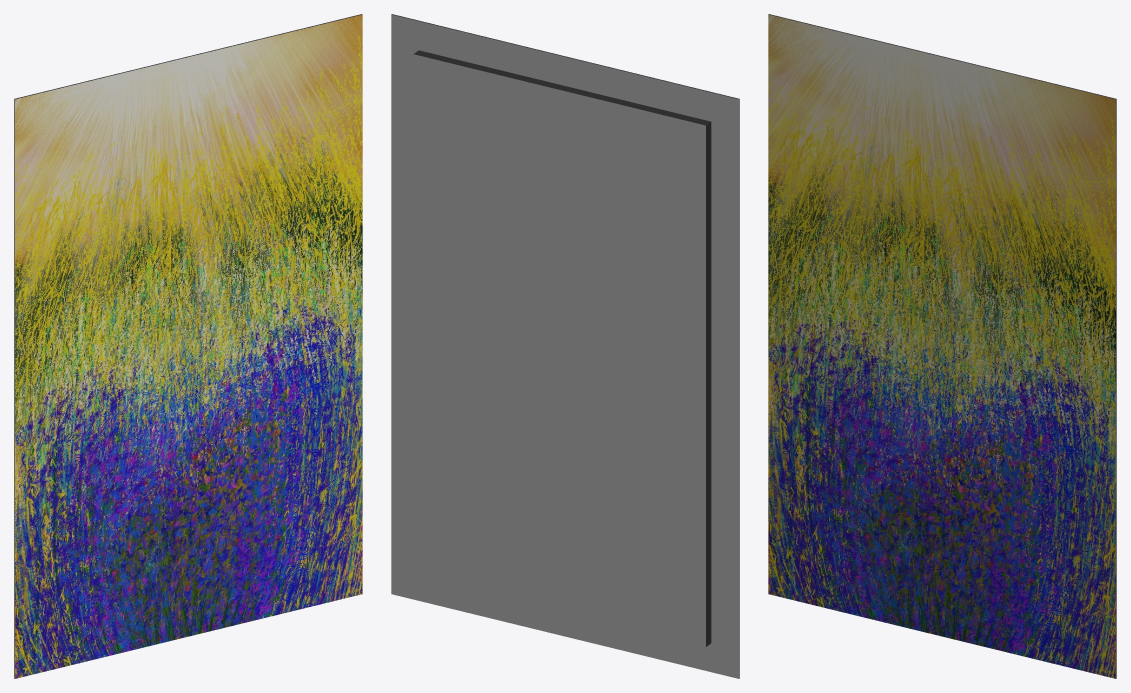
The model's file is os033_grand_dibond.glb.
3 renders of one model, left to right at view 1: azimuth 30°, elevation 25°; view 2: azimuth 150°, elevation 25°; view 3: azimuth 330°, elevation 25°, orthographic.
Parts seen in each view (by area): view 1: os033_grand_dibond; view 2: os033_grand_dibond; view 3: os033_grand_dibond.
Boxes of the visible parts, x1,y1,x2,y2 form: os033_grand_dibond: (14,14,362,678); os033_grand_dibond: (391,14,739,678); os033_grand_dibond: (768,14,1116,678).
Size of the model in its own units: 0.7537 by 1.2 by 0.023.
4 materials, 1 textured.
